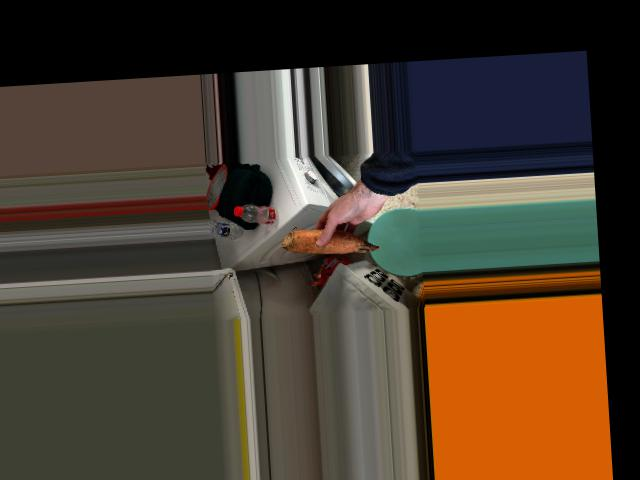sweet_potato: (277, 218, 381, 259)
